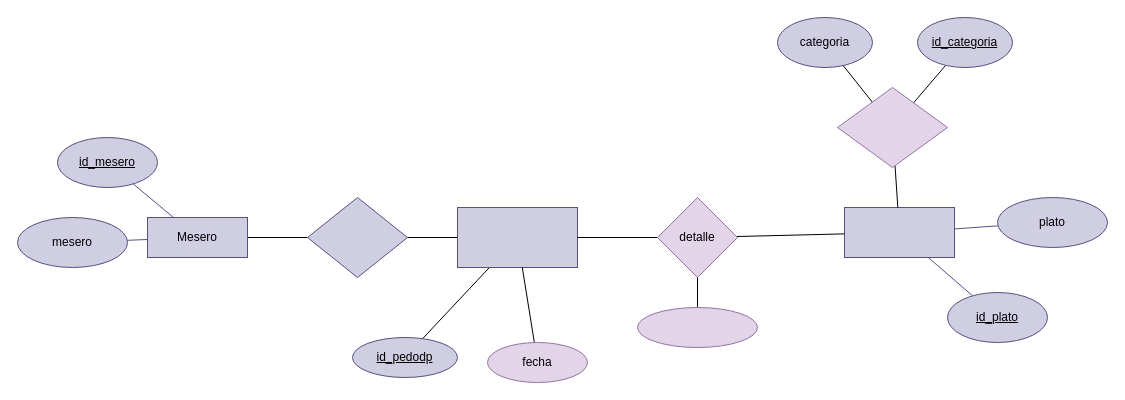
Image size: 1125x400. Some labels were removed from this diagram. The centre of each missing label's shape, as x and y in pixels:
"Cantidad" belongs at point 697,327.
"Clsificacion" belongs at point 892,127.
"Genera" belongs at point 357,237.
"Pedidos" belongs at point 517,237.
"Producto" belongs at point 899,232.
